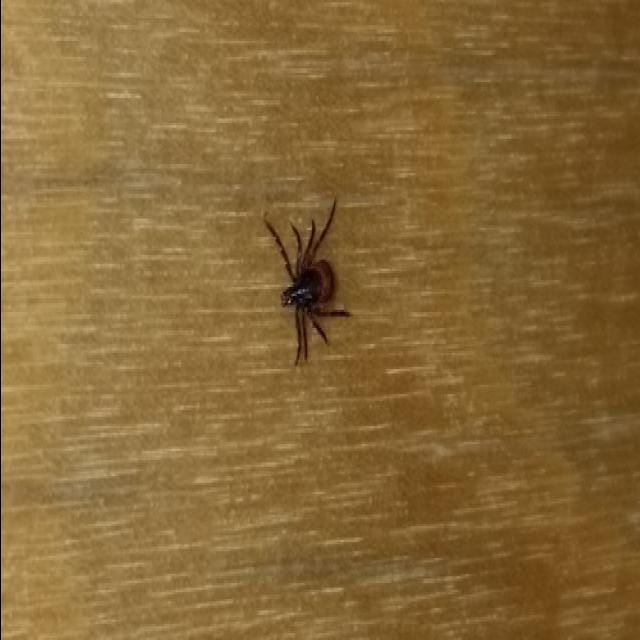Ixodes Ricinus-F: (264, 219, 346, 364)
